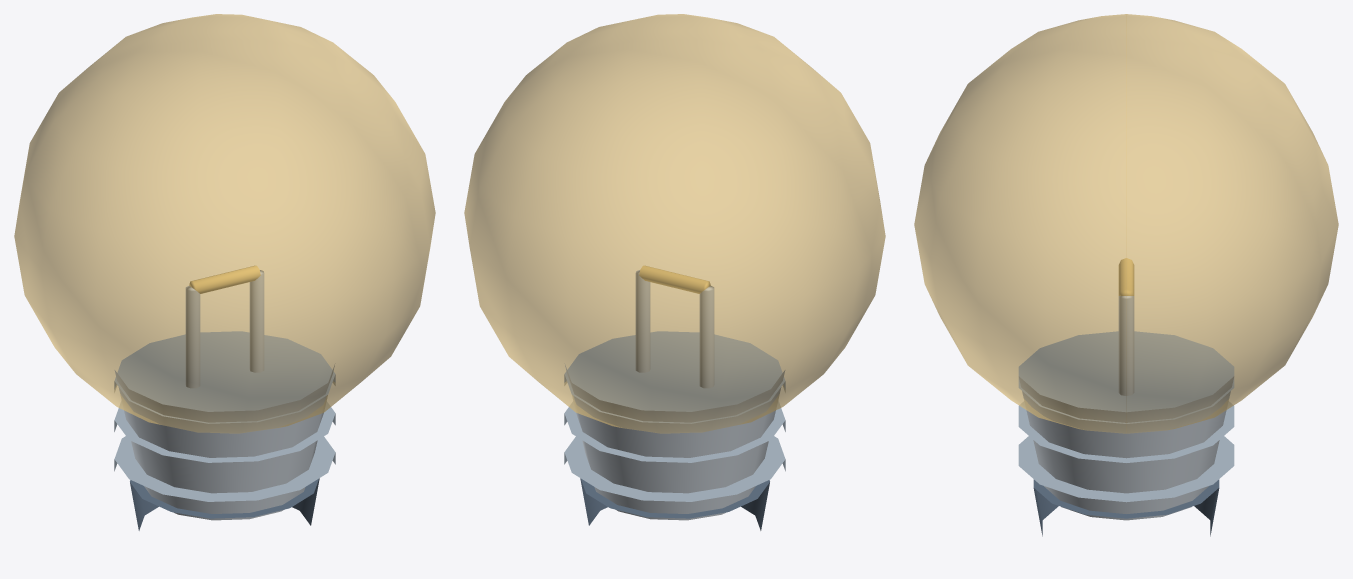
The model's file is incandescent-bulb.glb.
3 renders of one model, left to right at view 1: azimuth 30°, elevation 25°; view 2: azimuth 150°, elevation 25°; view 3: azimuth 270°, elevation 25°, orthographic.
Visible parts, largest first — view 1: Bombillo incandescente-glass, Bombillo incandescente-silver, Bombillo incandescente-metal, Bombillo incandescente-dark, Bombillo incandescente-gold; view 2: Bombillo incandescente-glass, Bombillo incandescente-silver, Bombillo incandescente-metal, Bombillo incandescente-dark, Bombillo incandescente-gold; view 3: Bombillo incandescente-glass, Bombillo incandescente-metal, Bombillo incandescente-silver, Bombillo incandescente-dark, Bombillo incandescente-gold.
Part boxes in pixels (x1,y1,x2,y2): Bombillo incandescente-glass: [14, 14, 435, 433]; Bombillo incandescente-silver: [114, 270, 334, 520]; Bombillo incandescente-metal: [114, 331, 335, 501]; Bombillo incandescente-dark: [130, 478, 319, 530]; Bombillo incandescente-gold: [189, 265, 260, 293]; Bombillo incandescente-glass: [464, 14, 885, 433]; Bombillo incandescente-silver: [565, 270, 785, 520]; Bombillo incandescente-metal: [564, 331, 785, 501]; Bombillo incandescente-dark: [580, 478, 769, 530]; Bombillo incandescente-gold: [639, 265, 710, 293]; Bombillo incandescente-glass: [914, 14, 1338, 433]; Bombillo incandescente-metal: [1018, 331, 1234, 502]; Bombillo incandescente-silver: [1019, 296, 1233, 520]; Bombillo incandescente-dark: [1033, 479, 1219, 536]; Bombillo incandescente-gold: [1118, 258, 1134, 295].
Size of the model in its own units: 1.38 by 1.78 by 1.38.
